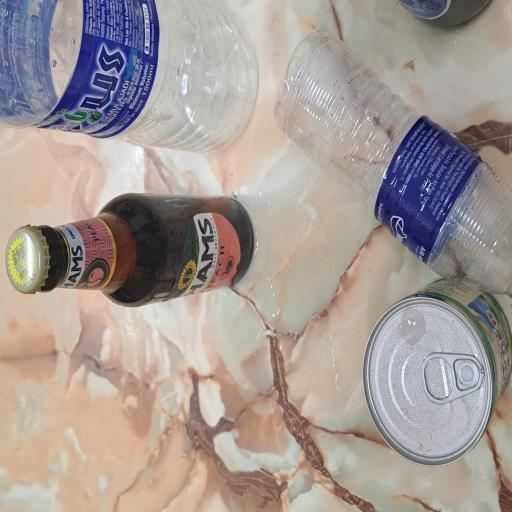glass bottle: (153, 9, 240, 341)
plastic bottle: (269, 0, 384, 344), (160, 366, 361, 512)
